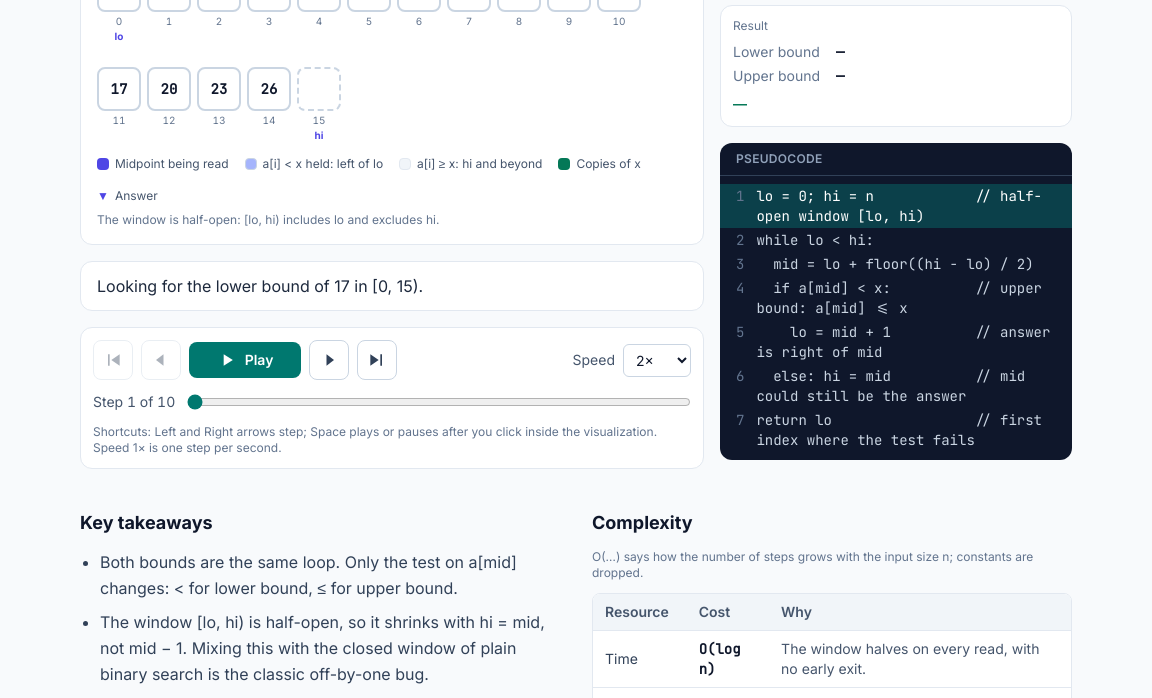
Scenario: lower and upper bound lesson › lower bound ends at 8 and shades the four copies
(page scrolled)
Click the button named "Last step". click: (377, 360)
box: [357, 340, 397, 380]
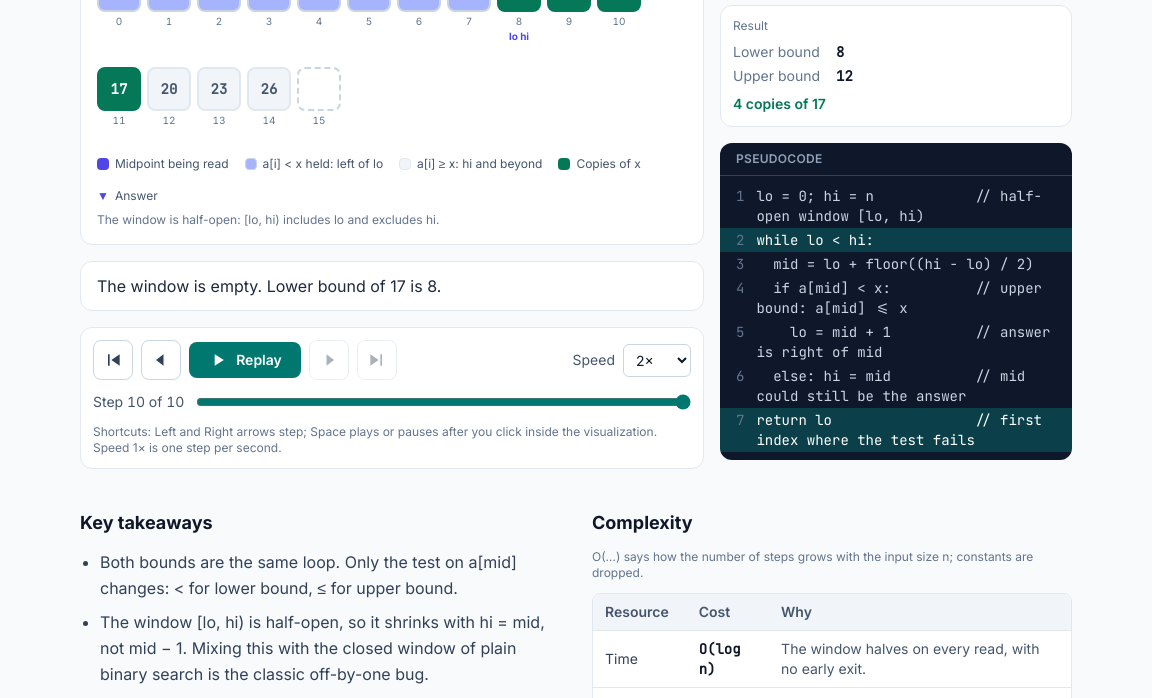
Now the text "Lower bound of 17 is 8." is shown, box [97, 276, 441, 296]
Now the text "4 copies of 17" is shown, box [733, 95, 826, 112]
